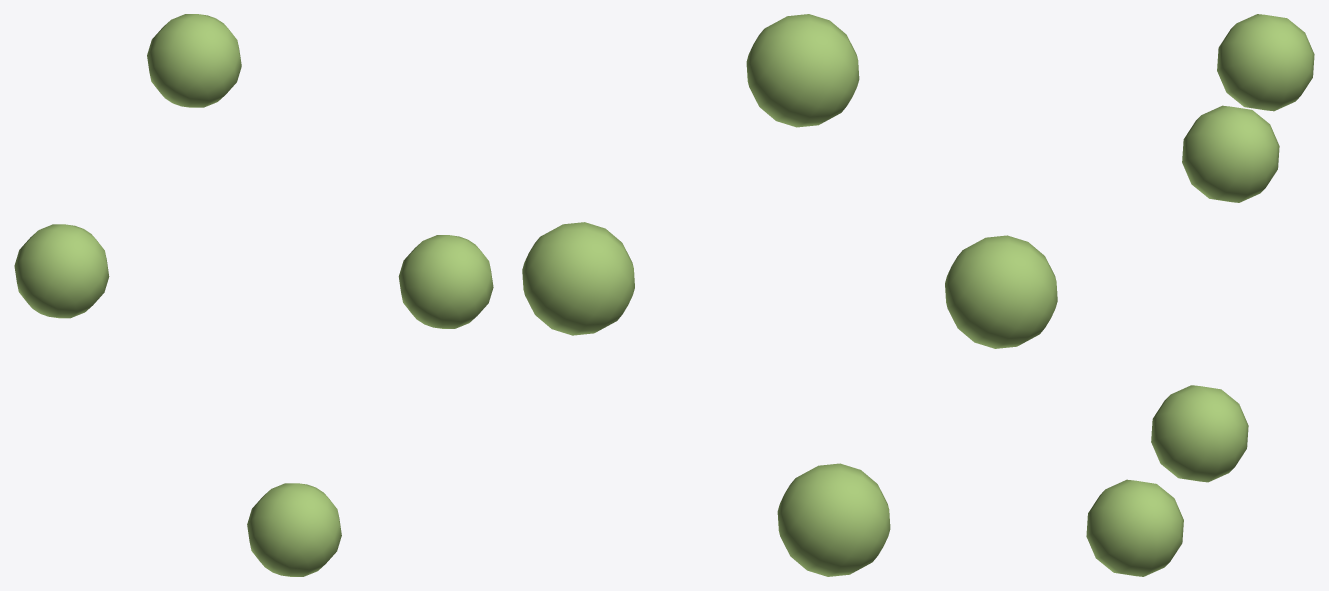
Rendered from coeliac-nodes.glb.
3 renders of one model, left to right at view 1: azimuth 30°, elevation 25°; view 2: azimuth 150°, elevation 25°; view 3: azimuth 270°, elevation 25°, orthographic. The views are drawn at different scales.
Visible parts, largest first — view 1: Coeliac nodes; view 2: Coeliac nodes; view 3: Coeliac nodes.
Boxes of the visible parts, x1,y1,x2,y2 form: Coeliac nodes: (14, 14, 493, 576); Coeliac nodes: (522, 14, 1057, 576); Coeliac nodes: (1086, 14, 1314, 576).
Bounding box in the file's own units: 0.0141 × 0.0155 × 0.00599.
